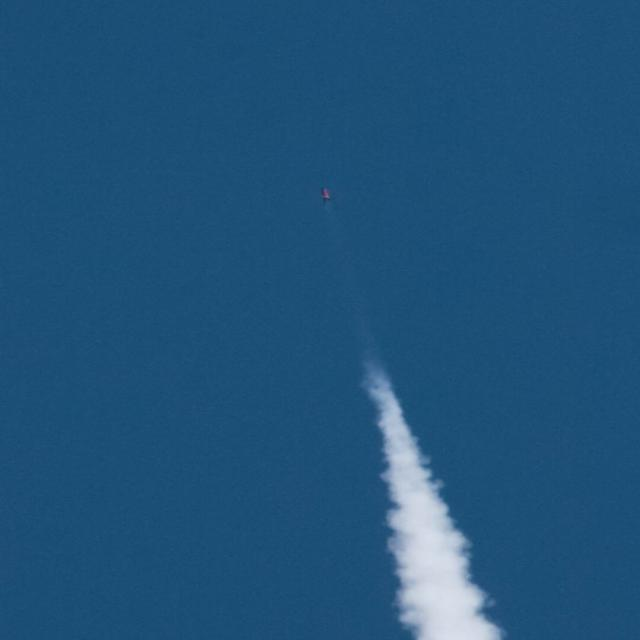Rocket: (320, 188, 333, 202)
